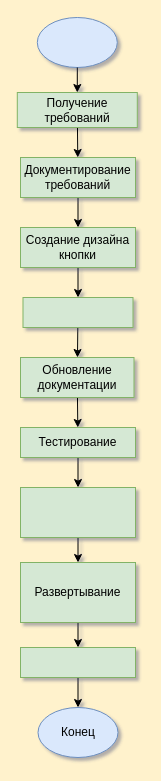
Some shapes in this 161 by 781 pixel diagram are drawn without their labels. The centre of each missing label's shape, as x and y in pixels:
Мониторинг: the point at 78,662
Начало: the point at 76,42
Обратная связь от команды / клиентов: the point at 78,512
Разработка: the point at 77,312
